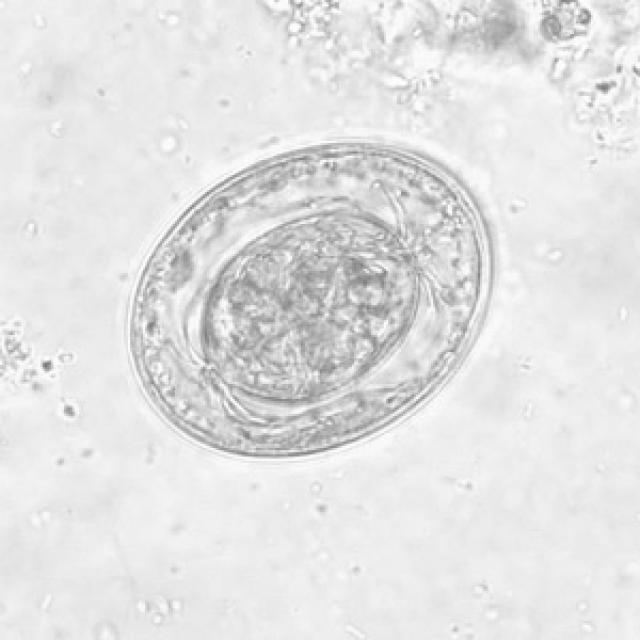Hymenolepis: (120, 129, 504, 464)
